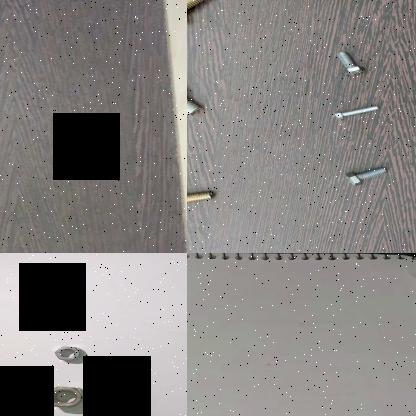Bolts: (342, 162, 392, 188), (330, 100, 382, 124), (328, 48, 372, 76), (187, 0, 221, 29), (187, 78, 210, 116), (187, 189, 216, 211)
NUTS: (41, 385, 85, 409), (53, 342, 84, 362)
